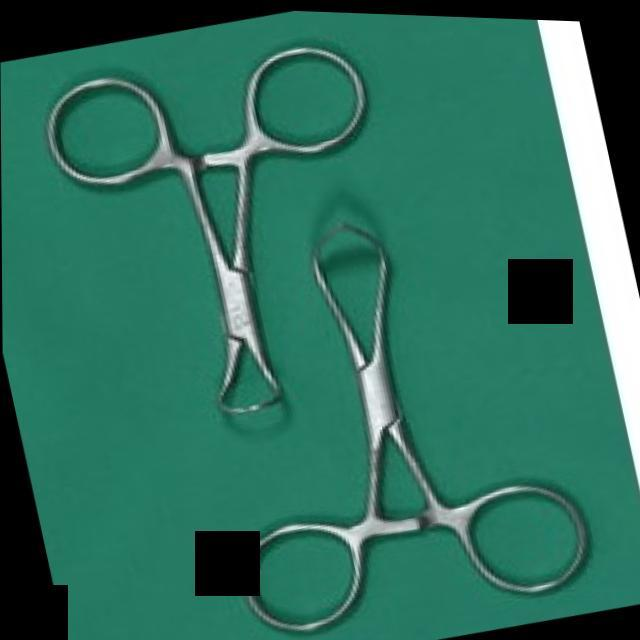Backhaus Towel Clamp: (163, 177, 605, 640), (11, 12, 434, 452)
